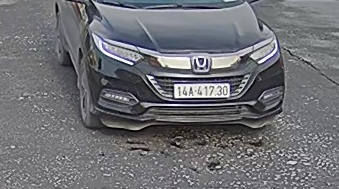vehicle plate: (172, 81, 228, 99)
